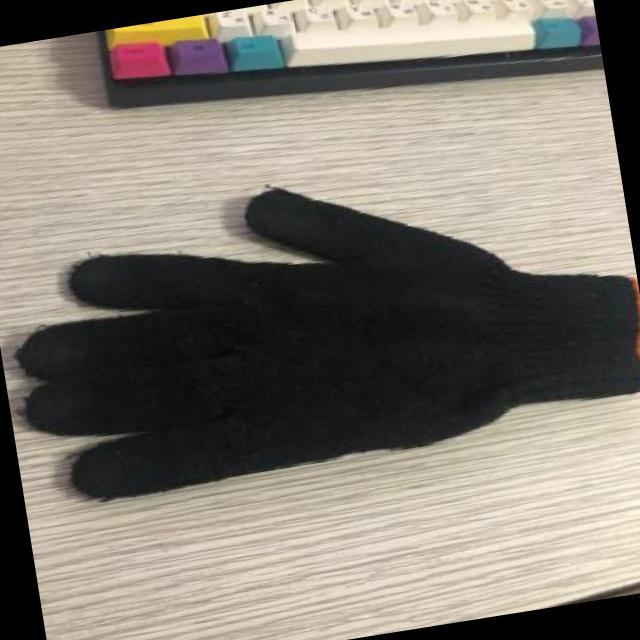glove: (13, 186, 639, 499)
